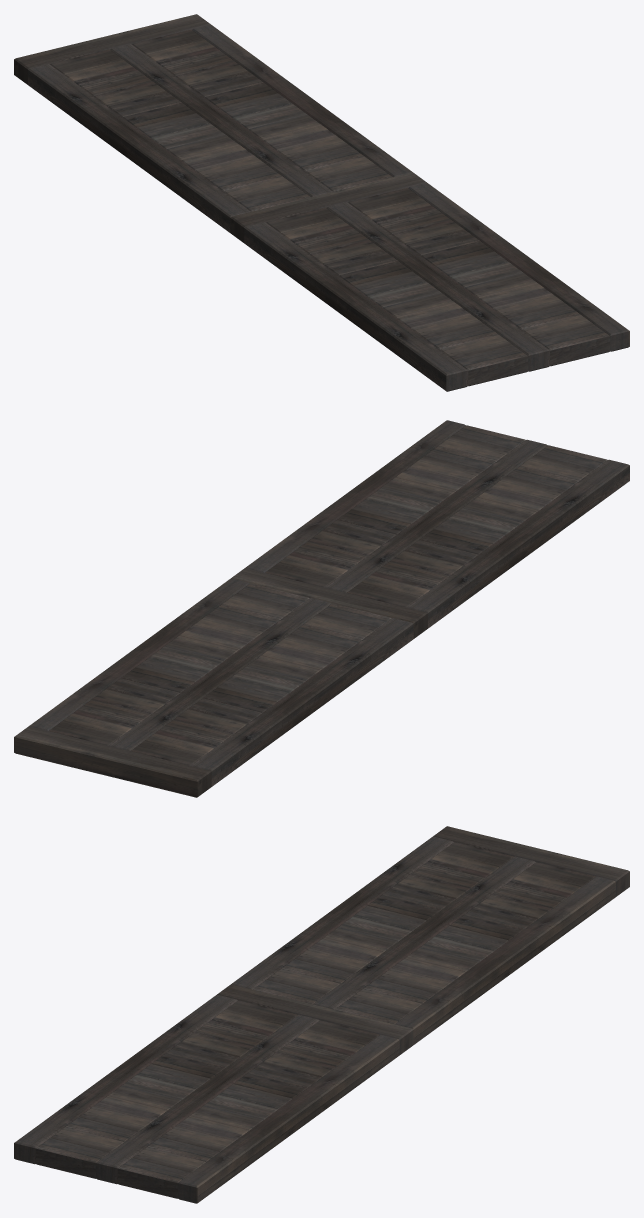
Rendered from SM_Unhyun_Norak_Floor_G001.fbx.
3 renders of one model, top to bottom at view 1: azimuth 30°, elevation 25°; view 2: azimuth 150°, elevation 25°; view 3: azimuth 330°, elevation 25°, orthographic.
Visible parts, largest first — view 1: SM_Unhyun_Norak_Floor_G001; view 2: SM_Unhyun_Norak_Floor_G001; view 3: SM_Unhyun_Norak_Floor_G001.
Part boxes in pixels (x1,y1,x2,y2): SM_Unhyun_Norak_Floor_G001: (14, 14, 629, 391); SM_Unhyun_Norak_Floor_G001: (14, 420, 629, 797); SM_Unhyun_Norak_Floor_G001: (14, 826, 629, 1203).
Bounding box in the file's own units: 128 × 11.89 × 522.
